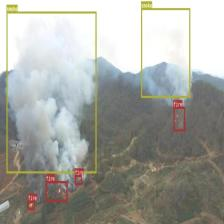fire: (46, 181, 67, 201), (173, 107, 185, 131), (74, 174, 82, 184), (28, 200, 35, 210)
smoke: (6, 11, 96, 173), (141, 8, 190, 97)
